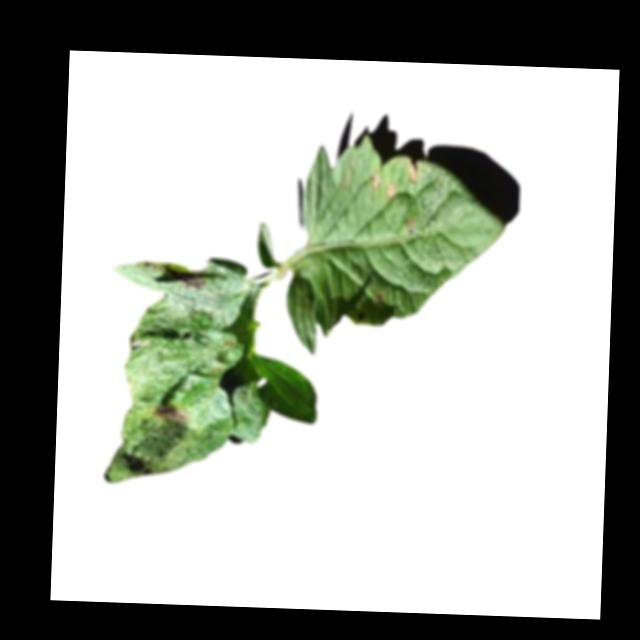Early_blight: (144, 403, 189, 427), (180, 277, 205, 292), (406, 161, 421, 186), (367, 170, 382, 191), (384, 181, 398, 200), (405, 218, 417, 235)
